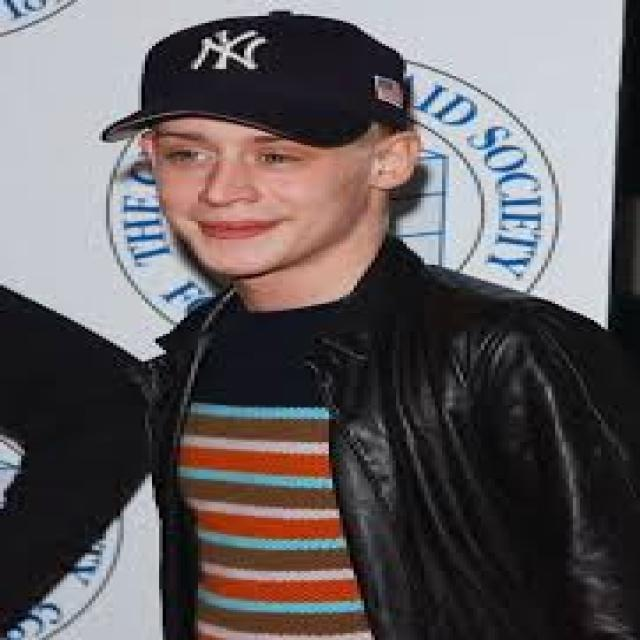3_gorra: (94, 9, 418, 150)
